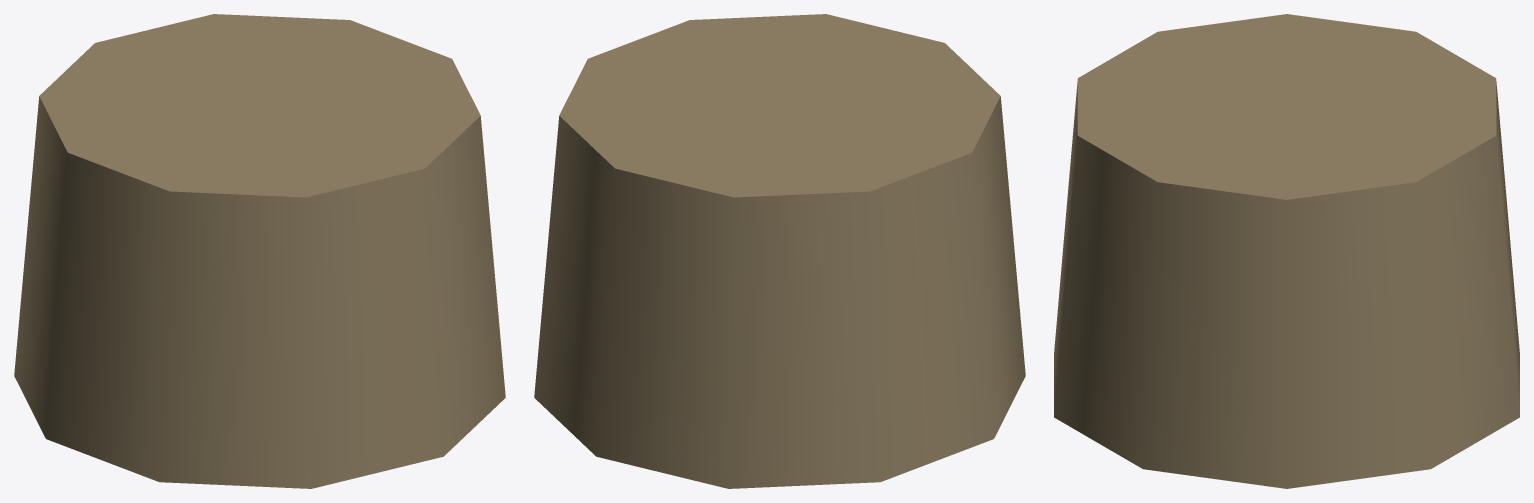
The model's file is Tronco_cortado.fbx.
3 renders of one model, left to right at view 1: azimuth 30°, elevation 25°; view 2: azimuth 150°, elevation 25°; view 3: azimuth 270°, elevation 25°, orthographic.
Parts seen in each view (by area): view 1: Tronco_cotado; view 2: Tronco_cotado; view 3: Tronco_cotado.
Boxes of the visible parts, box(x1,y1,x2,y2) form: Tronco_cotado: box(14, 14, 505, 488); Tronco_cotado: box(534, 14, 1025, 488); Tronco_cotado: box(1054, 14, 1519, 488).
Bounding box in the file's own units: 1.09 × 0.6867 × 1.04.
